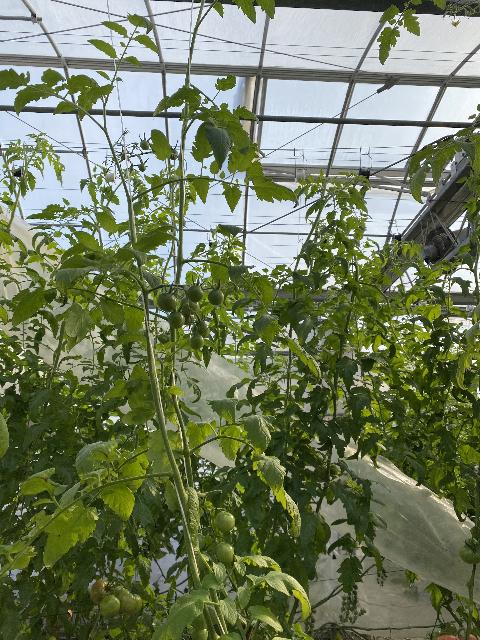l_green: (116, 589, 143, 616), (214, 510, 236, 532), (100, 595, 121, 618), (156, 292, 178, 312), (214, 542, 235, 562), (180, 296, 200, 315), (167, 311, 185, 329), (192, 321, 209, 340), (186, 285, 203, 302), (207, 289, 224, 305), (189, 335, 204, 350)
l_half_ripened: (90, 580, 115, 606)
